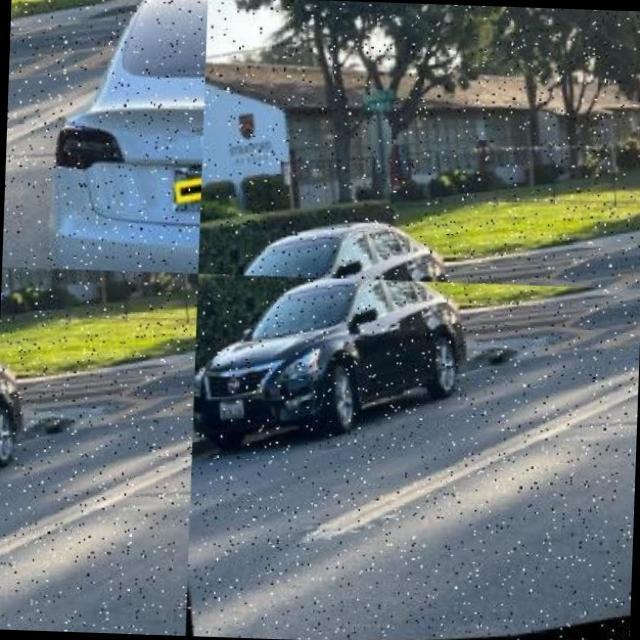LicensePlate: (220, 44, 272, 94), (0, 266, 47, 312), (215, 399, 239, 418), (11, 0, 38, 4)
